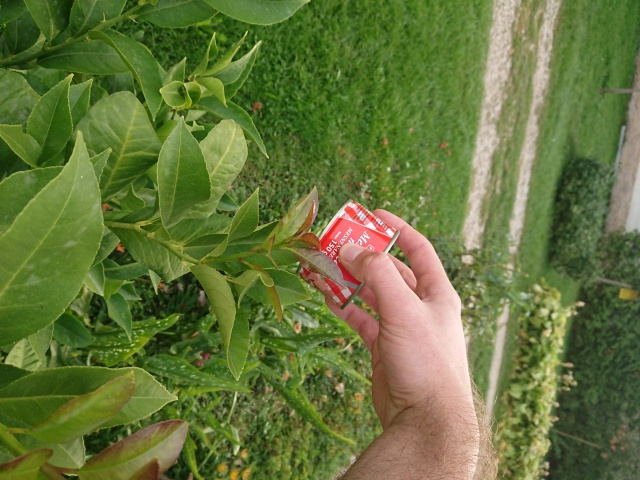Podravka Luncheon Meat 150g: (293, 195, 404, 314)
